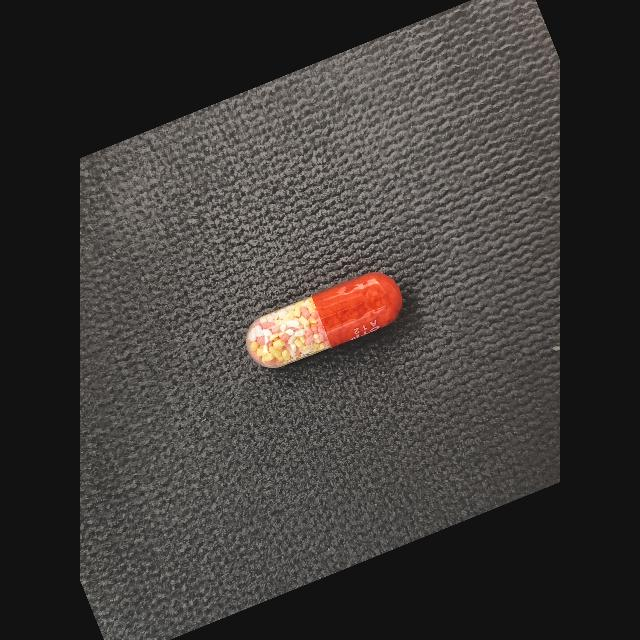Intact Capsule: (246, 273, 403, 368)
